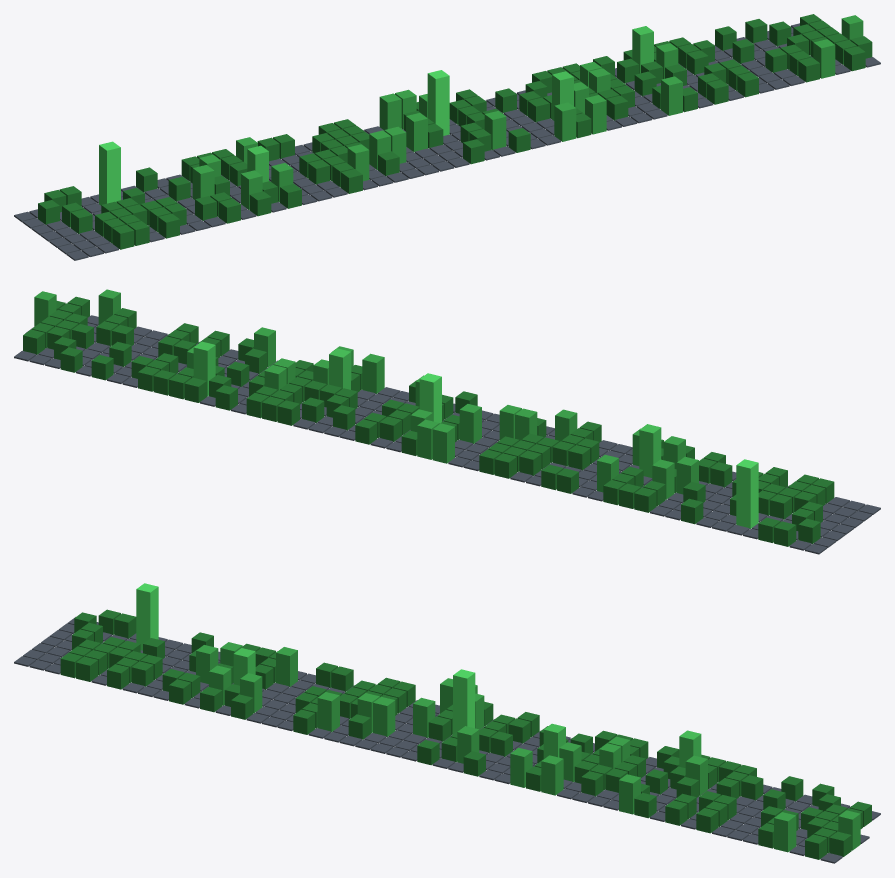
File: contributes.glb
3 renders of one model, top to bottom at view 1: azimuth 30°, elevation 25°; view 2: azimuth 150°, elevation 25°; view 3: azimuth 330°, elevation 25°, orthographic.
Parts seen in each view (by area): view 1: Cube.040, Cube.186, Cube.224, Cube.285, Cube.273, Cube.171, Cube.174, Cube.233, Cube.343, Cube.073, Cube.197, Cube.238 (+7 smaller); view 2: Cube.040, Cube.093, Cube.186, Cube.233, Cube.285, Cube.174, Cube.224, Cube.171, Cube.073, Cube.081, Cube.181, Cube.149 (+7 smaller); view 3: Cube.186, Cube.040, Cube.238, Cube.343, Cube.156, Cube.134, Cube.103, Cube.224, Cube.171, Cube.273, Cube.233, Cube.073 (+7 smaller).
Part boxes in pixels (left/top/right/bottom): Cube.040: left=99, top=141, right=120, bottom=205; Cube.186: left=427, top=70, right=449, bottom=135; Cube.224: left=554, top=102, right=576, bottom=141; Cube.285: left=632, top=26, right=653, bottom=73; Cube.273: left=661, top=76, right=682, bottom=115; Cube.171: left=406, top=113, right=427, bottom=152; Cube.174: left=379, top=93, right=401, bottom=129; Cube.233: left=552, top=71, right=573, bottom=120; Cube.343: left=813, top=39, right=835, bottom=78; Cube.073: left=192, top=165, right=214, bottom=199; Cube.197: left=484, top=111, right=506, bottom=150; Cube.238: left=585, top=95, right=606, bottom=134; Cube.040: left=736, top=459, right=758, bottom=528; Cube.093: left=639, top=424, right=661, bottom=477; Cube.186: left=419, top=373, right=441, bottom=423; Cube.233: left=329, top=348, right=351, bottom=389; Cube.285: left=193, top=341, right=215, bottom=396; Cube.174: left=432, top=423, right=454, bottom=463; Cube.224: left=362, top=353, right=384, bottom=393; Cube.171: left=459, top=404, right=481, bottom=443; Cube.073: left=676, top=456, right=698, bottom=494; Cube.081: left=652, top=459, right=674, bottom=499; Cube.181: left=417, top=419, right=439, bottom=459; Cube.149: left=515, top=408, right=537, bottom=440; Cube.186: left=453, top=669, right=475, bottom=734; Cube.040: left=136, top=583, right=158, bottom=650; Cube.238: left=541, top=755, right=563, bottom=795; Cube.343: left=774, top=812, right=796, bottom=852; Cube.156: left=373, top=696, right=395, bottom=736; Cube.134: left=317, top=692, right=339, bottom=732; Cube.103: left=276, top=647, right=297, bottom=686; Cube.224: left=510, top=747, right=532, bottom=787; Cube.171: left=413, top=697, right=435, bottom=737; Cube.273: left=619, top=774, right=640, bottom=814; Cube.233: left=543, top=723, right=565, bottom=758; Cube.073: left=196, top=645, right=218, bottom=683.
Bounding box in the file's own units: 58.2 × 4.1 × 7.6.
